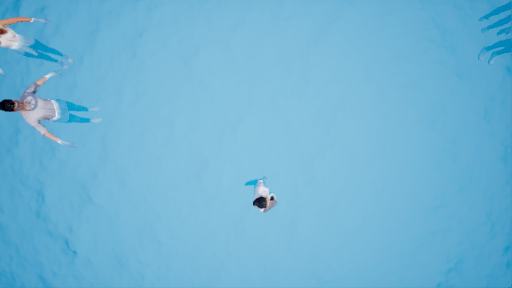person: (1, 73, 107, 147), (1, 8, 76, 69), (242, 167, 289, 220)
